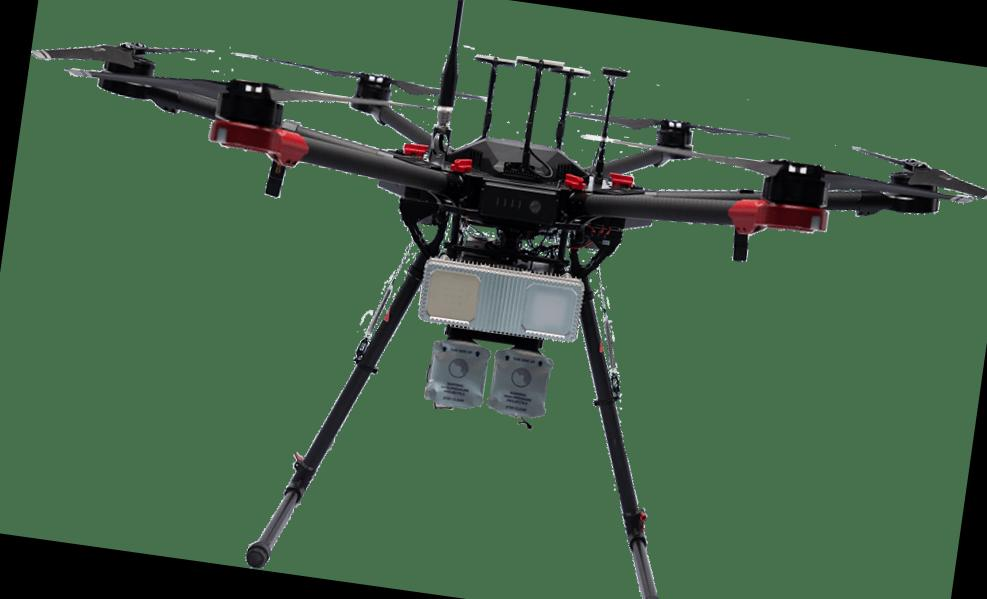drone: (13, 0, 987, 349)
